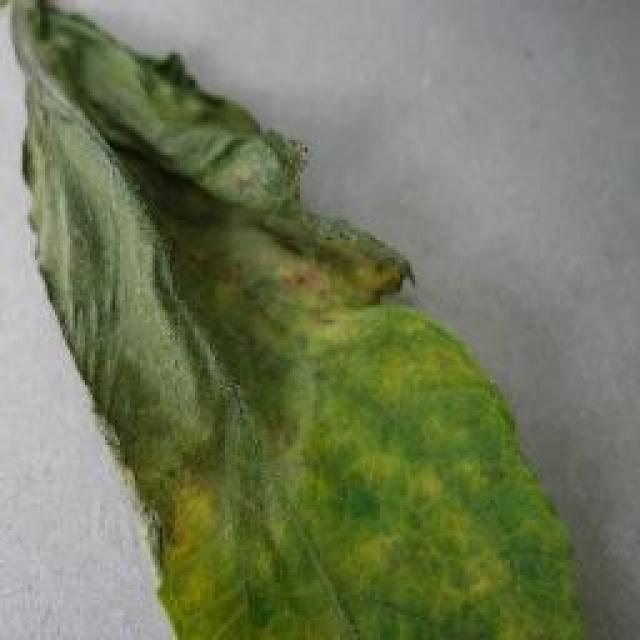Tomato_Late_Blight: (0, 0, 313, 463)
